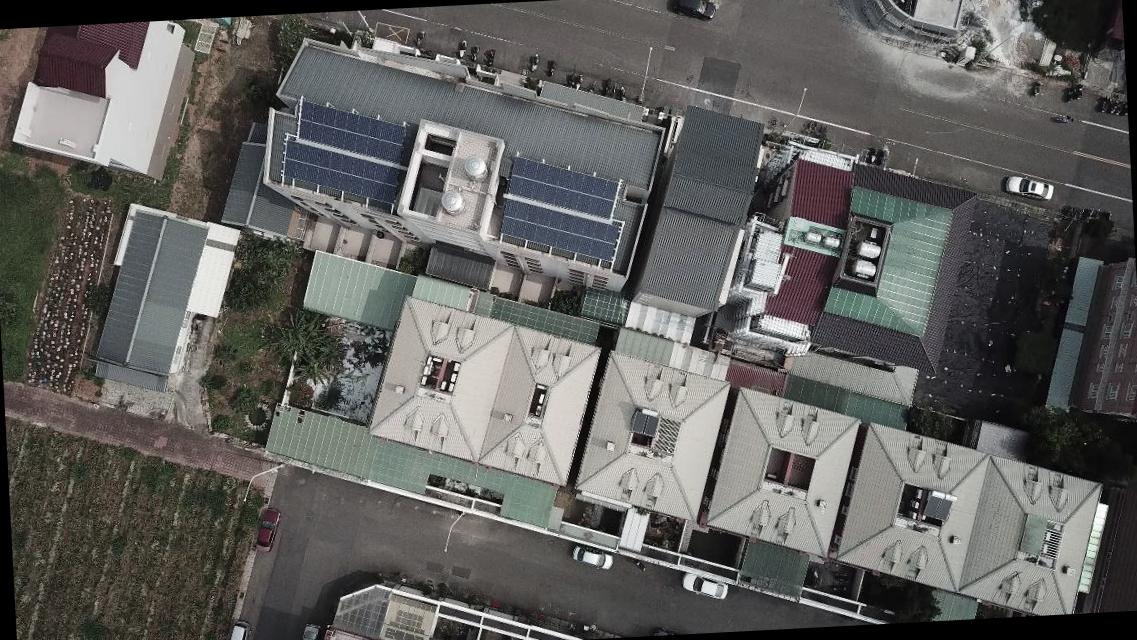vehicle: (1000, 170, 1056, 204), (677, 568, 728, 603), (250, 505, 284, 555), (568, 540, 614, 572), (669, 0, 720, 24), (225, 619, 253, 639)
